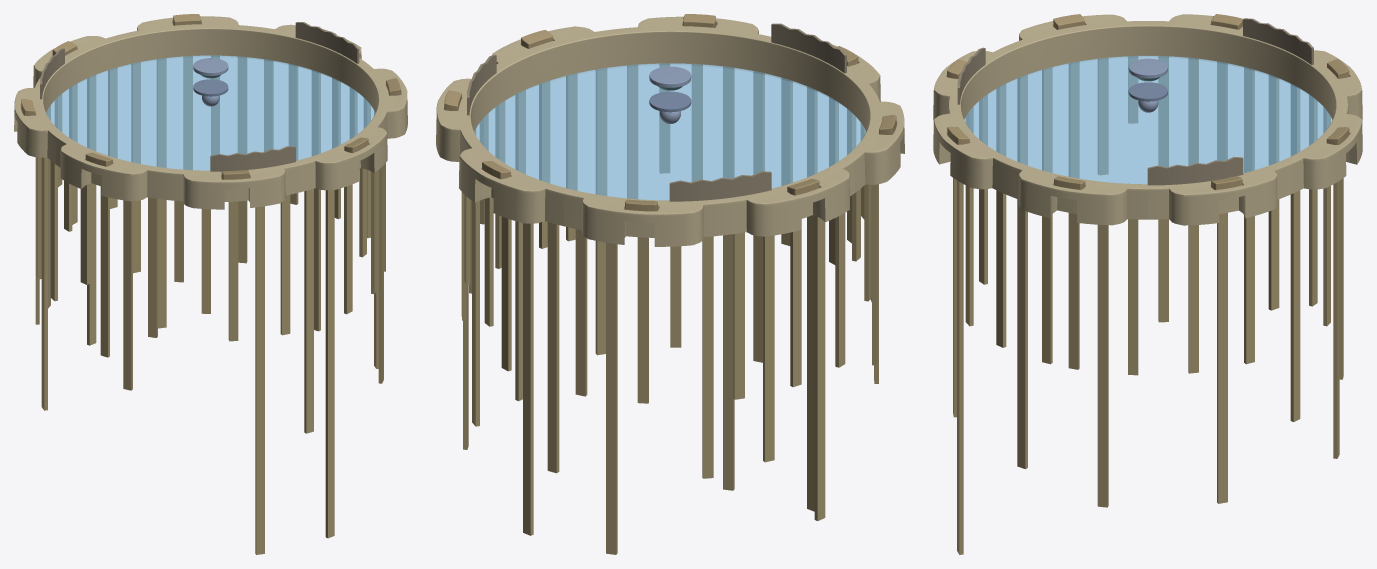
File: arenaprototype.fbx
3 views of the same model, side by side, from view 1: azimuth 30°, elevation 25°; view 2: azimuth 150°, elevation 25°; view 3: azimuth 270°, elevation 25° (orthographic). The views are drawn at different scales.
Parts seen in each view (by area): view 1: pTorus16, polySurface18, pCube1, polySurface21, polySurface19, alternatif, pCylinder1, polySurface20; view 2: pTorus16, polySurface18, pCube1, polySurface20, polySurface21, alternatif, pCylinder1, polySurface19; view 3: pTorus16, polySurface18, pCube1, polySurface19, polySurface20, alternatif, polySurface21, pCylinder1.
Part boxes in pixels (x1,y1,x2,y2): pTorus16: [35, 56, 385, 554]; polySurface18: [14, 16, 407, 209]; pCube1: [46, 55, 375, 170]; polySurface21: [210, 146, 295, 171]; polySurface19: [295, 22, 359, 63]; alternatif: [193, 58, 228, 78]; pCylinder1: [193, 79, 228, 96]; polySurface20: [40, 48, 64, 99]; pTorus16: [461, 64, 878, 554]; polySurface18: [436, 16, 904, 246]; pCube1: [474, 63, 866, 200]; polySurface20: [669, 171, 771, 201]; polySurface21: [771, 23, 846, 73]; alternatif: [649, 66, 691, 90]; pCylinder1: [649, 91, 691, 112]; polySurface19: [467, 54, 496, 115]; pTorus16: [953, 56, 1343, 554]; polySurface18: [933, 14, 1362, 225]; pCube1: [964, 56, 1332, 184]; polySurface19: [1147, 157, 1243, 185]; polySurface20: [1243, 18, 1313, 64]; alternatif: [1128, 58, 1167, 81]; polySurface21: [957, 47, 985, 104]; pCylinder1: [1128, 82, 1167, 101].
Bounding box in the file's own units: 1043 × 1251 × 1043.
